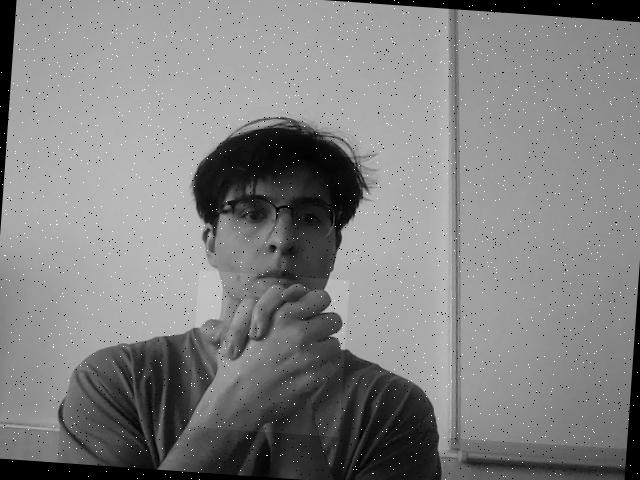friend: (189, 276, 345, 431)
